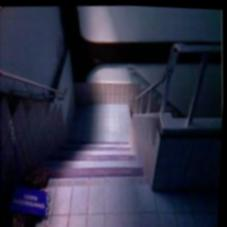Animal: (33, 131, 149, 191)
